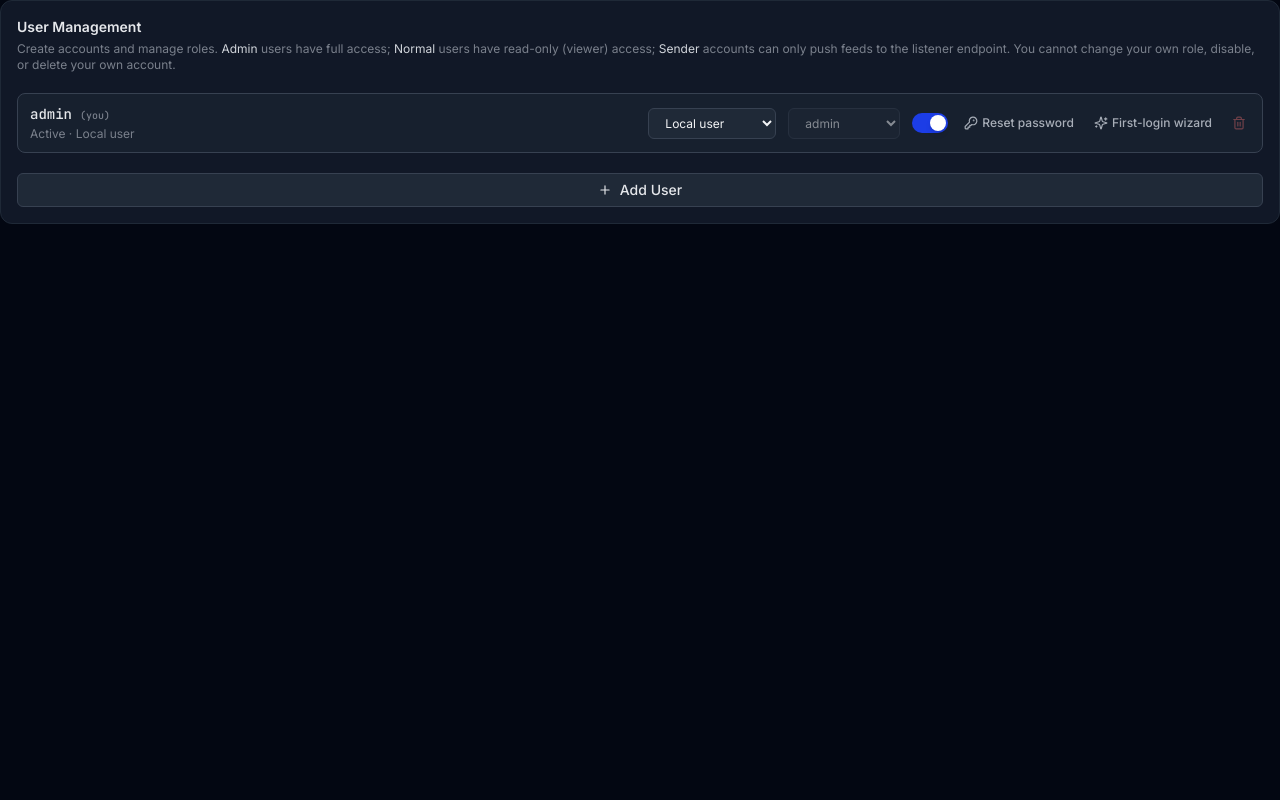
Test: UserManagementTab organizations › create form: org selected submits the chosen org_id and use_email_username flag
Step 1. Click the button "Add User" → click(640, 190), box [17, 173, 1263, 207]
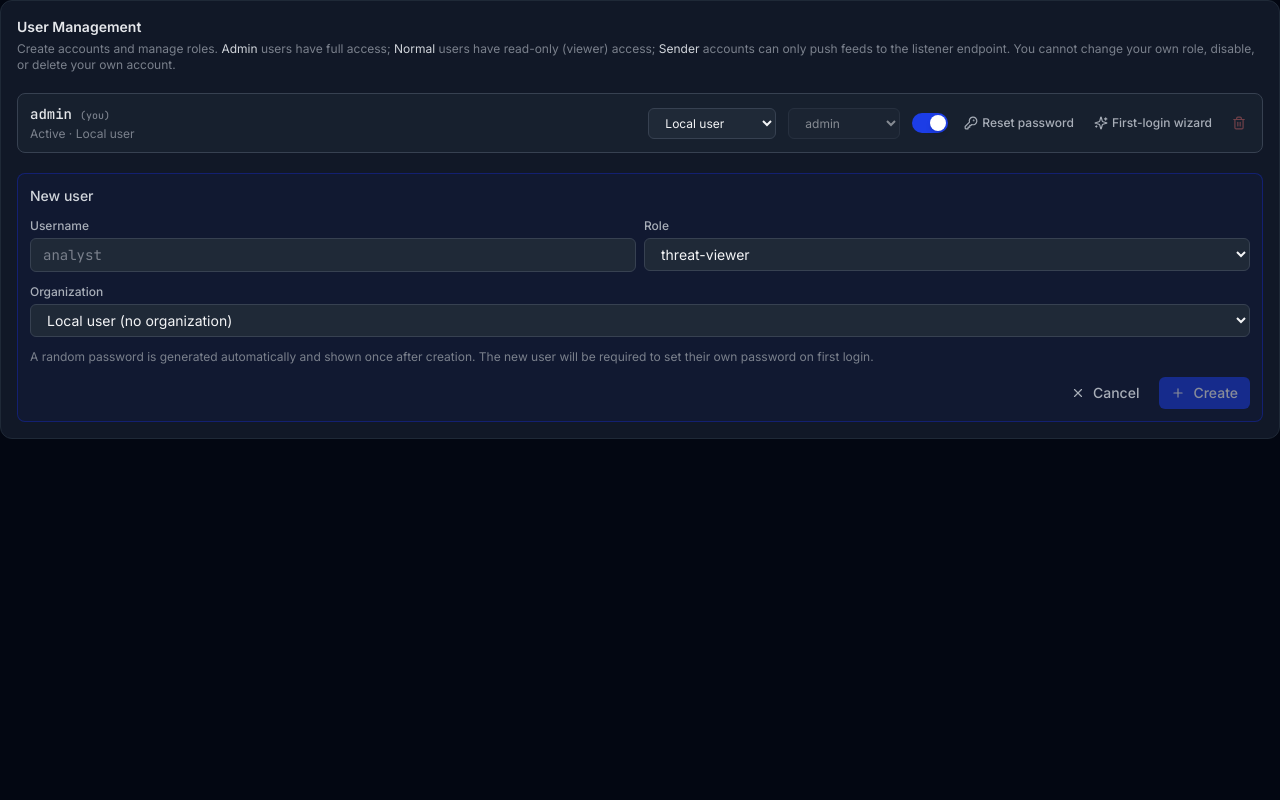
Step 2. Type "bob" into the field labelled "Username" → (333, 255), box [30, 238, 636, 272]
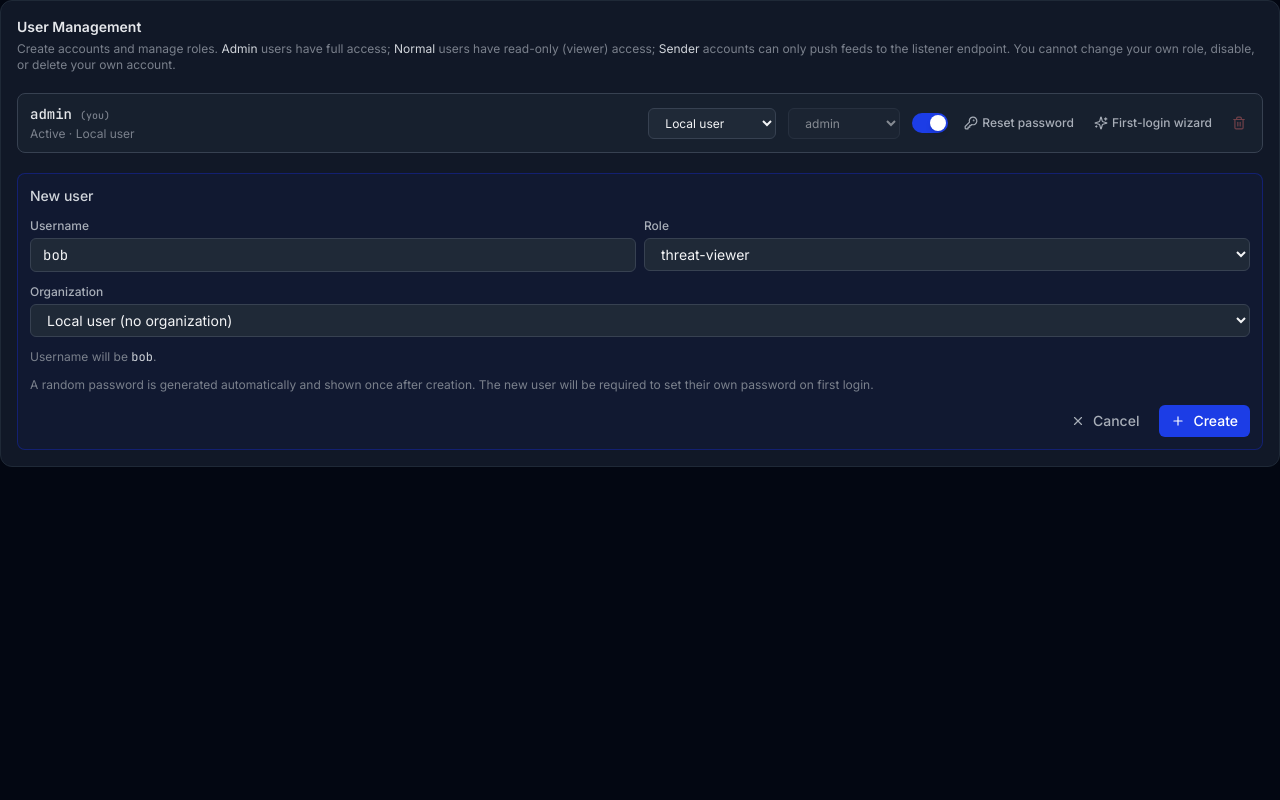
Step 3. Select "Acme (acme.com)" in the dropdown labelled "Organization" → (640, 320), box [30, 304, 1250, 337]
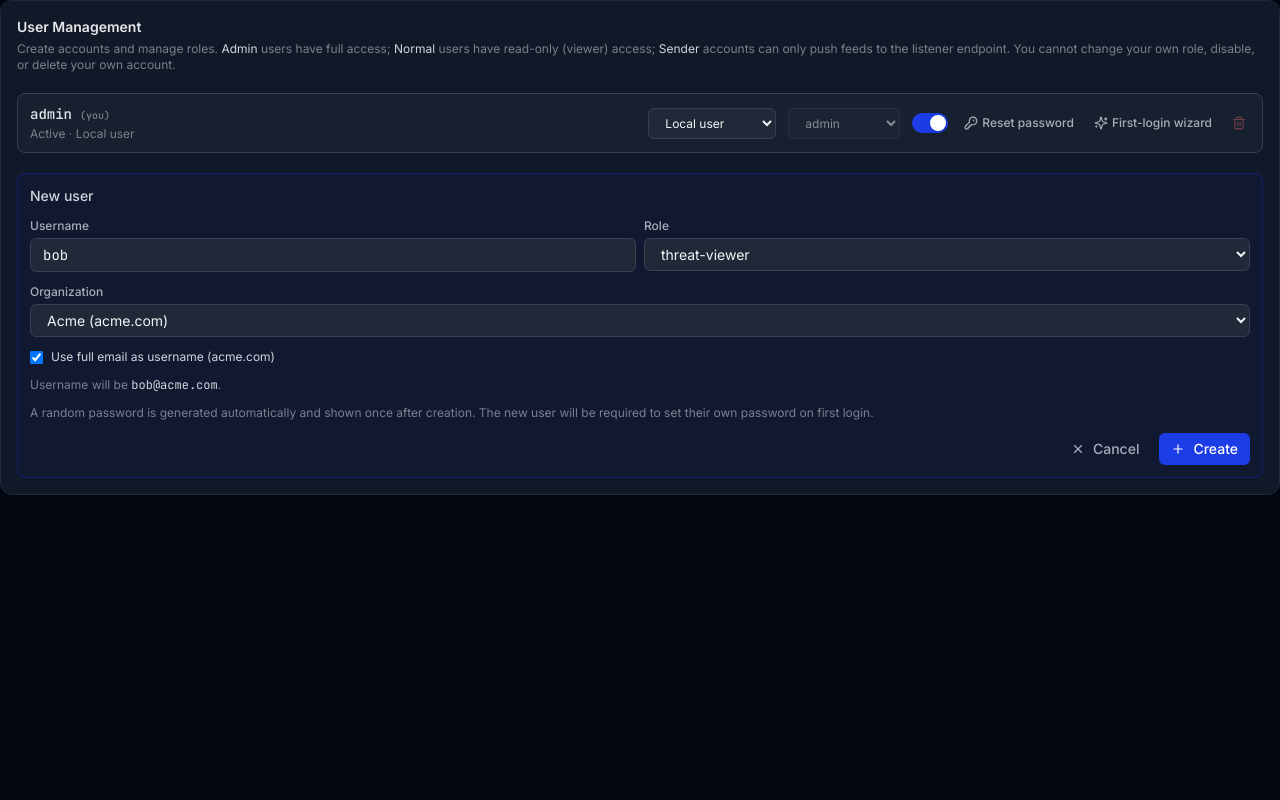
Step 4. Click the button "Create" → click(1205, 449), box [1159, 433, 1250, 465]
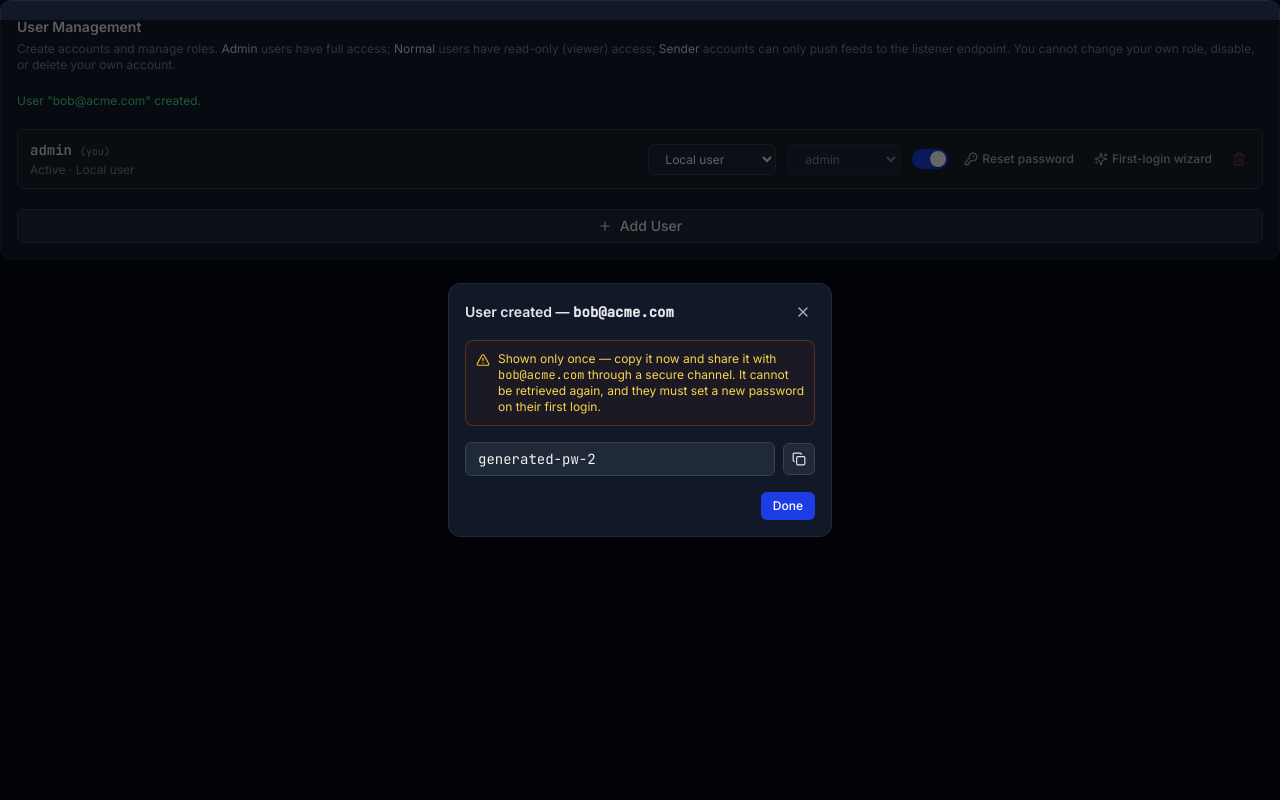
Now the text "User \"bob@acme.com\" created." is shown, box [17, 93, 201, 108]
